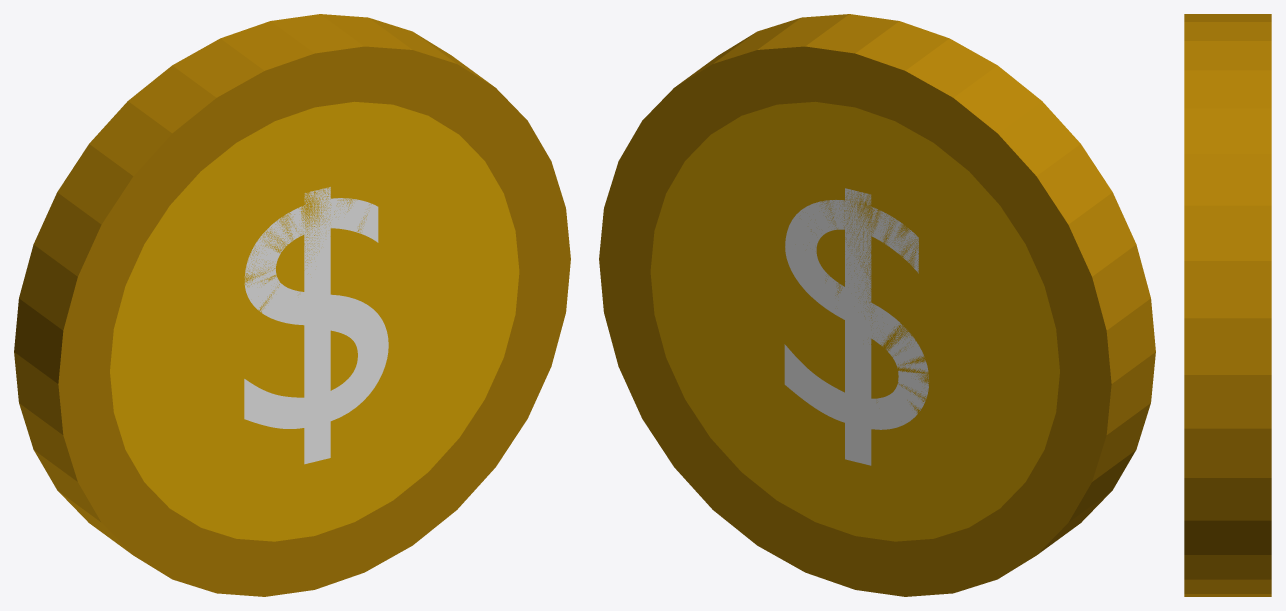
The model's file is coin.glb.
3 renders of one model, left to right at view 1: azimuth 30°, elevation 25°; view 2: azimuth 150°, elevation 25°; view 3: azimuth 270°, elevation 25°, orthographic.
Parts seen in each view (by area): view 1: Cylinder, Text; view 2: Cylinder, Text.001; view 3: Cylinder.
Boxes of the visible parts, x1,y1,x2,y2 form: Cylinder: (14, 14, 570, 596); Text: (244, 187, 388, 464); Cylinder: (599, 14, 1155, 596); Text.001: (784, 188, 928, 465); Cylinder: (1184, 14, 1271, 596).
Size of the model in its own units: 0.8 by 0.8 by 0.12.
